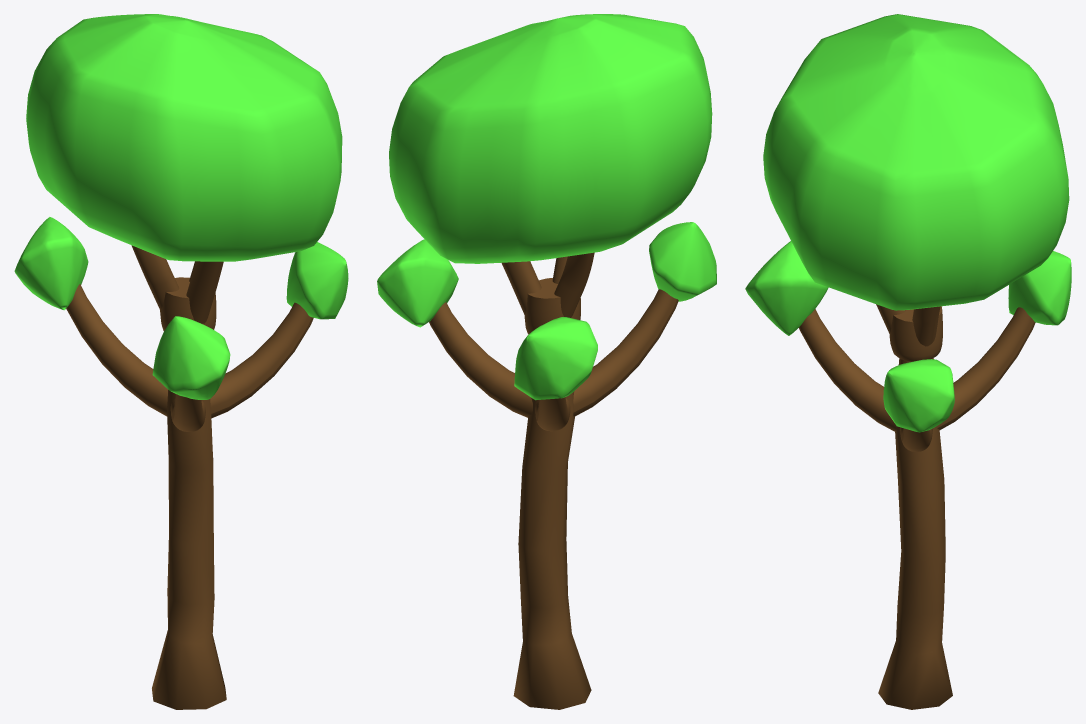
File: loopolytree.fbx
3 views of the same model, side by side, from view 1: azimuth 30°, elevation 25°; view 2: azimuth 150°, elevation 25°; view 3: azimuth 270°, elevation 25° (orthographic). The views are drawn at different scales.
Parts seen in each view (by area): view 1: Root; view 2: Root; view 3: Root.
Boxes of the visible parts, left/top/right/bottom form: Root: left=14, top=14, right=348, bottom=709; Root: left=377, top=14, right=716, bottom=709; Root: left=745, top=14, right=1071, bottom=709.
Size of the model in its own units: 171 by 367 by 168.
